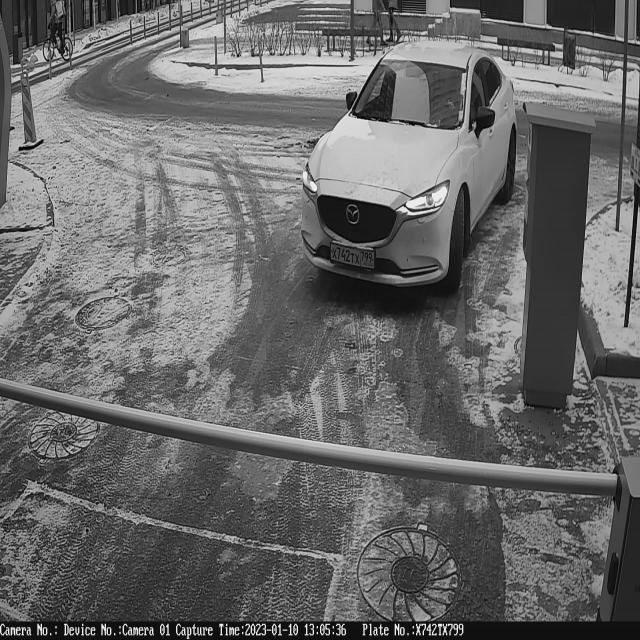car-plate-numbers: (330, 239, 377, 273)
